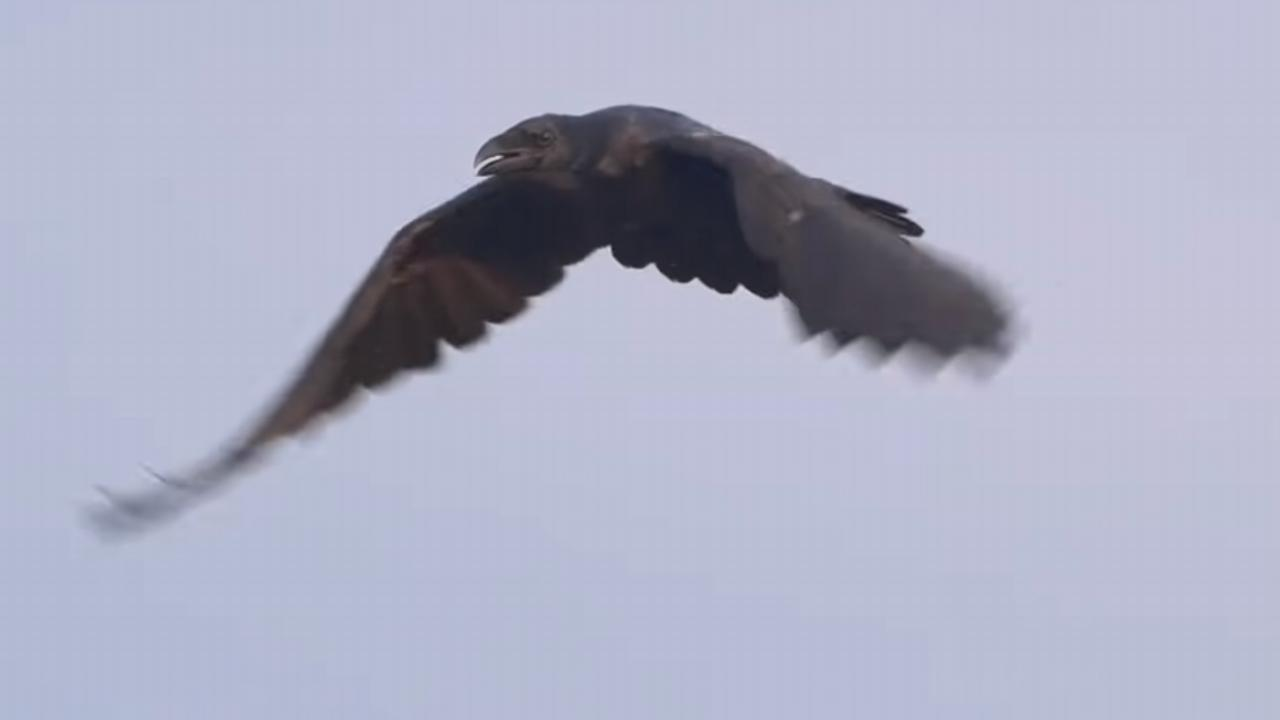Bird: (64, 92, 1042, 564)
